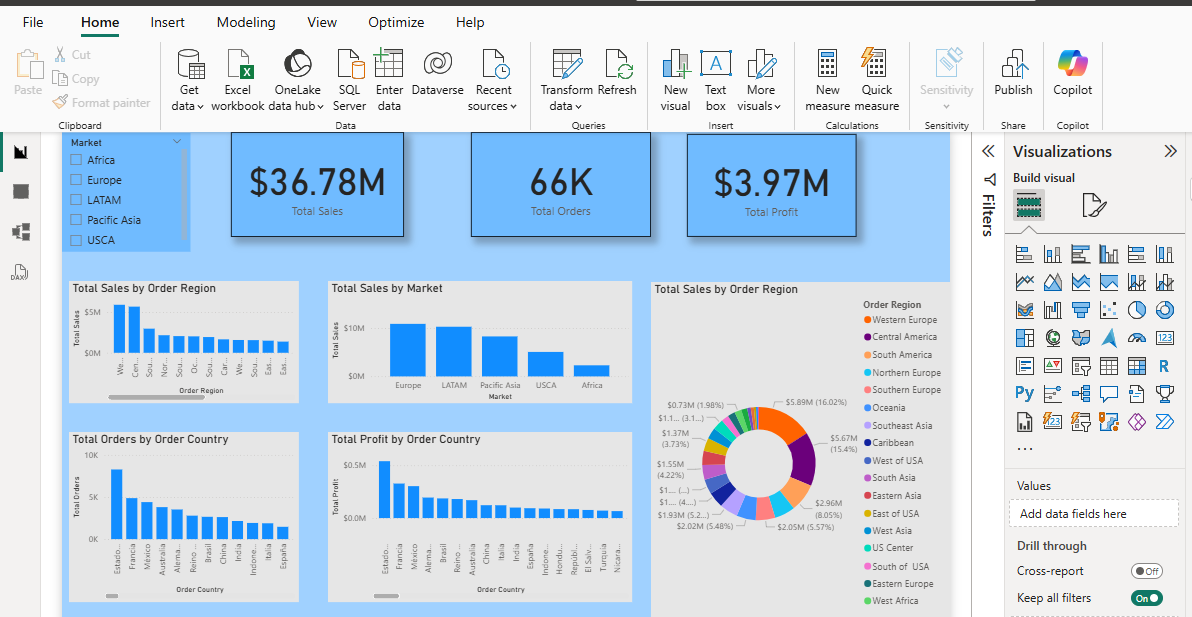

The dashboard page shown, as its layout file describes it:
{"tool":"powerbi","page":{"name":"Geography","canvas":[1280,720],"ordinal":3},"visuals":[{"type":"card","fields":{"Values":["DataCoOrders.Total Sales"]},"box":[243.6,0,248.6,151.2],"z":0},{"type":"card","fields":{"Values":["DataCoOrders.Total Orders"]},"box":[589.6,0,258.7,151.2],"z":1000},{"type":"card","fields":{"Values":["DataCoOrders.Total Profit"]},"box":[900.4,3.4,243.6,147.8],"z":2000},{"type":"columnChart","fields":{"Category":["DataCoOrders.Order Region"],"Y":["DataCoOrders.Total Sales"]},"box":[10.1,215,330.9,176.4],"z":3000},{"type":"columnChart","fields":{"Category":["DataCoOrders.Order Country"],"Y":["DataCoOrders.Total Orders"]},"box":[10.1,431.7,330.9,245.2],"z":4000},{"type":"columnChart","fields":{"Category":["DataCoOrders.Market"],"Y":["DataCoOrders.Total Sales"]},"box":[383,215,438.4,176.4],"z":5000},{"type":"columnChart","fields":{"Category":["DataCoOrders.Order Country"],"Y":["DataCoOrders.Total Profit"]},"box":[383,431.7,438.4,245.2],"z":6000},{"type":"donutChart","fields":{"Category":["DataCoOrders.Order Region"],"Y":["DataCoOrders.Total Sales"]},"box":[848.3,216.7,431.7,503.9],"z":7000},{"type":"slicer","fields":{"Values":["DataCoOrders.Market"]},"box":[0,1.7,184.8,171.3],"z":7001}]}

Visuals, with their boxes on the page's 1280x720 design canvas (x1, y1, x2, y2). These are canvas units, not pixel positions in the 1192x617 screenshot, which may show the page scaled, cropped or inside an application window:
card - DataCoOrders.Total Sales: rect(244, 0, 492, 151)
card - DataCoOrders.Total Orders: rect(590, 0, 848, 151)
card - DataCoOrders.Total Profit: rect(900, 3, 1144, 151)
columnChart - DataCoOrders.Order Region x DataCoOrders.Total Sales: rect(10, 215, 341, 391)
columnChart - DataCoOrders.Order Country x DataCoOrders.Total Orders: rect(10, 432, 341, 677)
columnChart - DataCoOrders.Market x DataCoOrders.Total Sales: rect(383, 215, 821, 391)
columnChart - DataCoOrders.Order Country x DataCoOrders.Total Profit: rect(383, 432, 821, 677)
donutChart - DataCoOrders.Order Region x DataCoOrders.Total Sales: rect(848, 217, 1280, 721)
slicer - DataCoOrders.Market: rect(0, 2, 185, 173)
